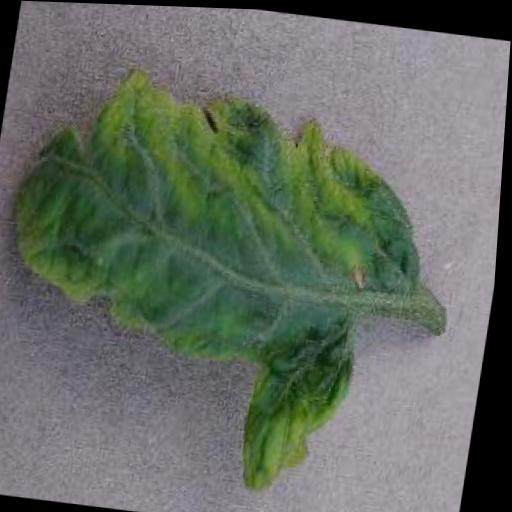Yellow Leaf Curl Virus: (0, 59, 445, 507)
